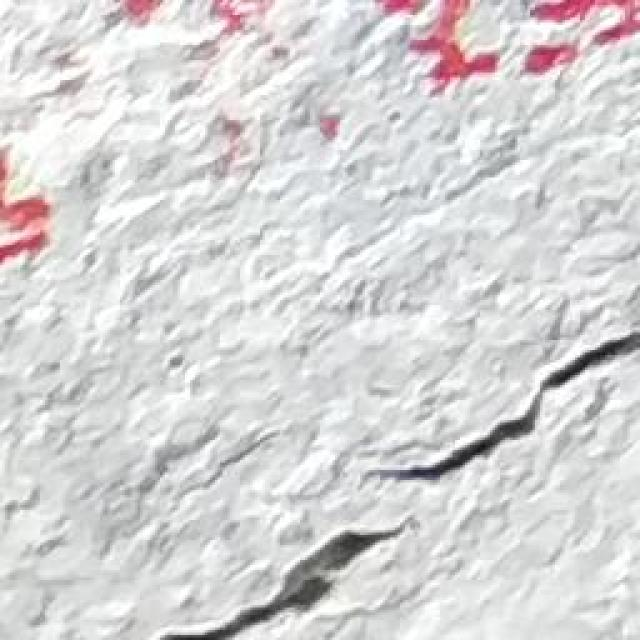Diagonal: (156, 328, 640, 638)
